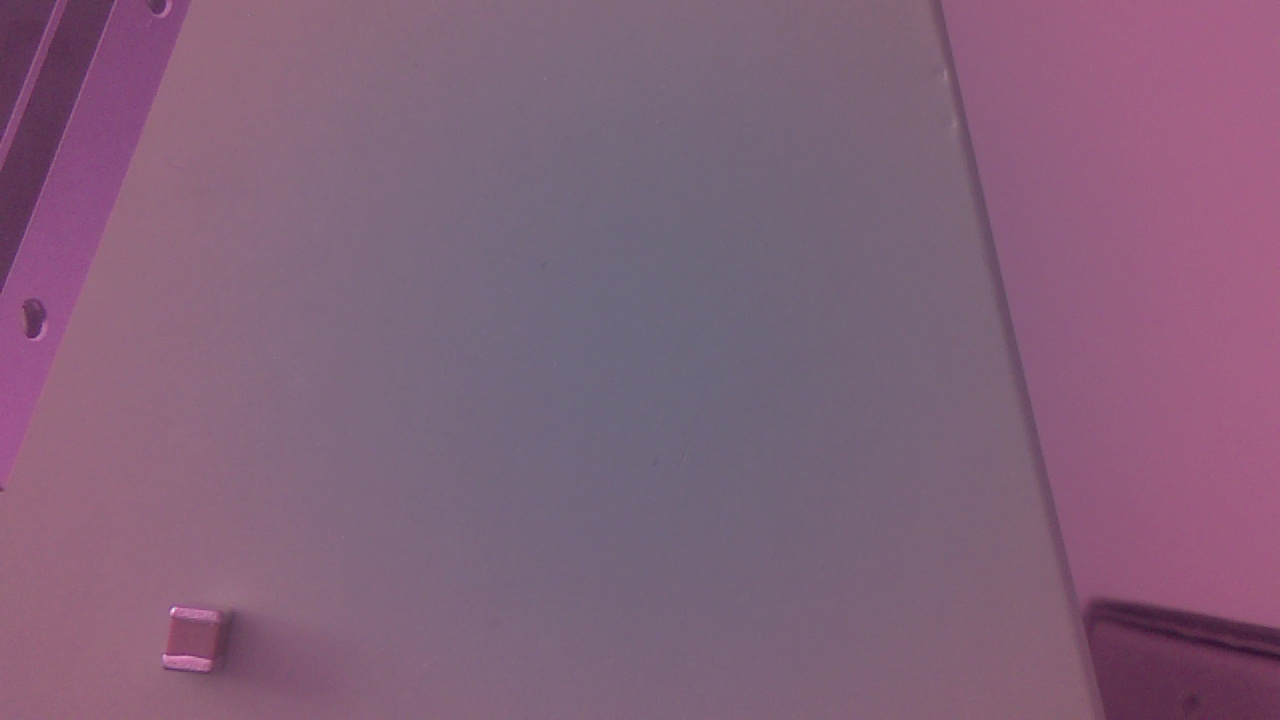Condensator: (163, 606, 235, 681)
